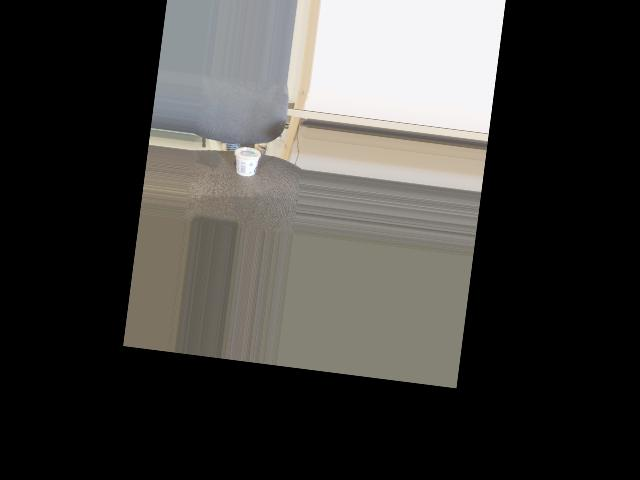cotage: (232, 145, 260, 180)
